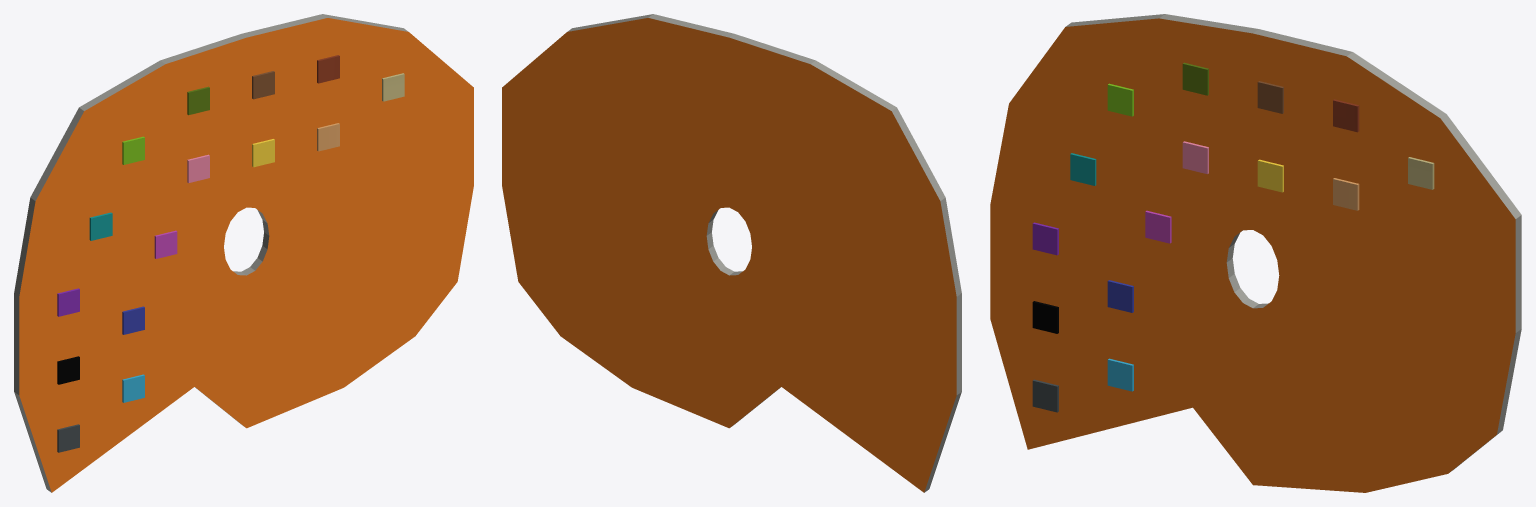
Rendered from item_palette15.obj.
3 renders of one model, left to right at view 1: azimuth 30°, elevation 25°; view 2: azimuth 150°, elevation 25°; view 3: azimuth 330°, elevation 25°, orthographic. The views are drawn at different scales.
Parts seen in each view (by area): view 1: wooden_palette_with_open_thumb_hole_and_grip_notch, native_cumulative_paint_state; view 2: wooden_palette_with_open_thumb_hole_and_grip_notch; view 3: wooden_palette_with_open_thumb_hole_and_grip_notch, native_cumulative_paint_state.
Boxes of the visible parts, x1,y1,x2,y2 form: wooden_palette_with_open_thumb_hole_and_grip_notch: (14,14,473,492); native_cumulative_paint_state: (57,55,404,452); wooden_palette_with_open_thumb_hole_and_grip_notch: (502,14,961,492); wooden_palette_with_open_thumb_hole_and_grip_notch: (990,14,1521,492); native_cumulative_paint_state: (1032,62,1434,412).
Bounding box in the file's own units: 0.875 × 0.75 × 0.0219.
